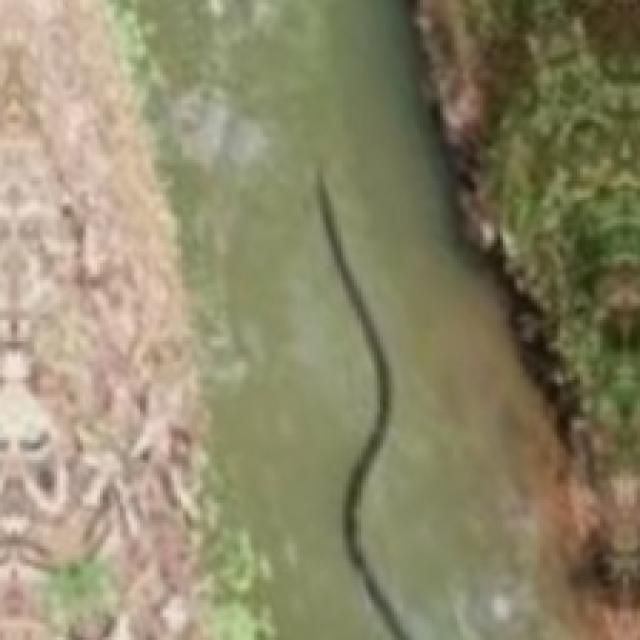king cobra: (0, 0, 200, 637)
